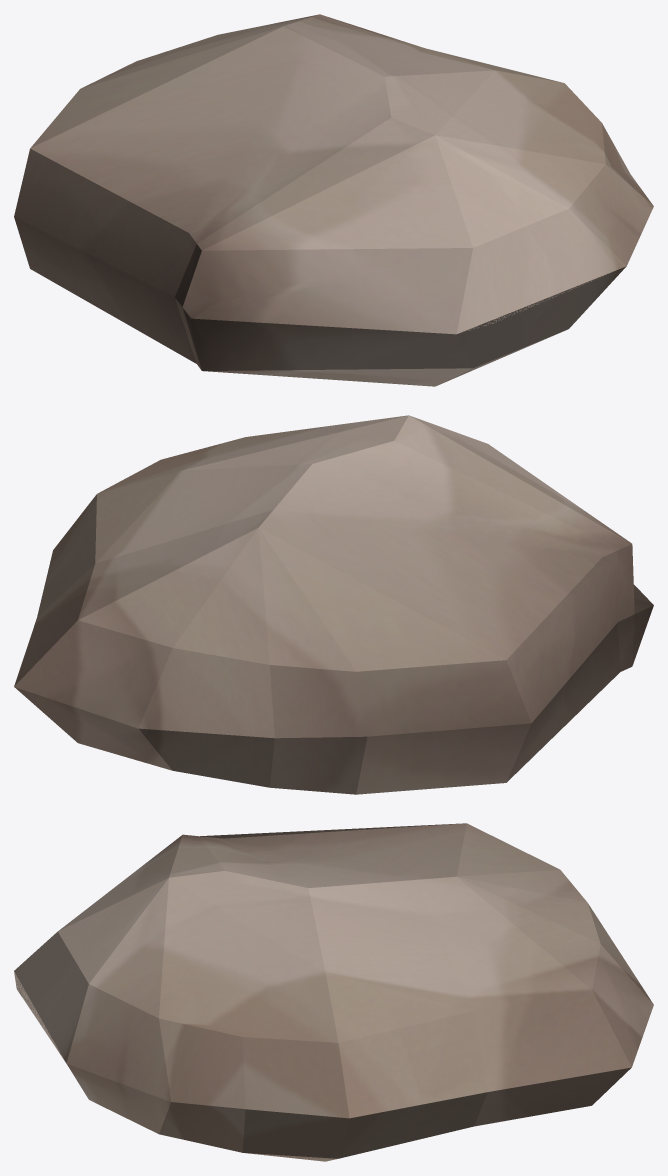
The model's file is TER_Boulder02.glb.
3 renders of one model, top to bottom at view 1: azimuth 30°, elevation 25°; view 2: azimuth 150°, elevation 25°; view 3: azimuth 270°, elevation 25°, orthographic. The views are drawn at different scales.
Parts seen in each view (by area): view 1: TER_Boulder02; view 2: TER_Boulder02; view 3: TER_Boulder02.
Boxes of the visible parts, left/top/right/bottom form: TER_Boulder02: left=14, top=14, right=653, bottom=386; TER_Boulder02: left=14, top=415, right=653, bottom=794; TER_Boulder02: left=14, top=823, right=653, bottom=1161.
Bounding box in the file's own units: 7.43 × 3.4 × 8.14.
1 material, 1 textured.
